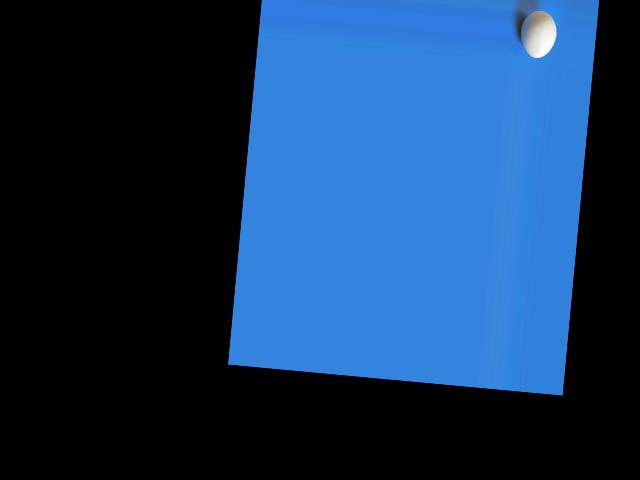egg: (518, 8, 558, 59)
